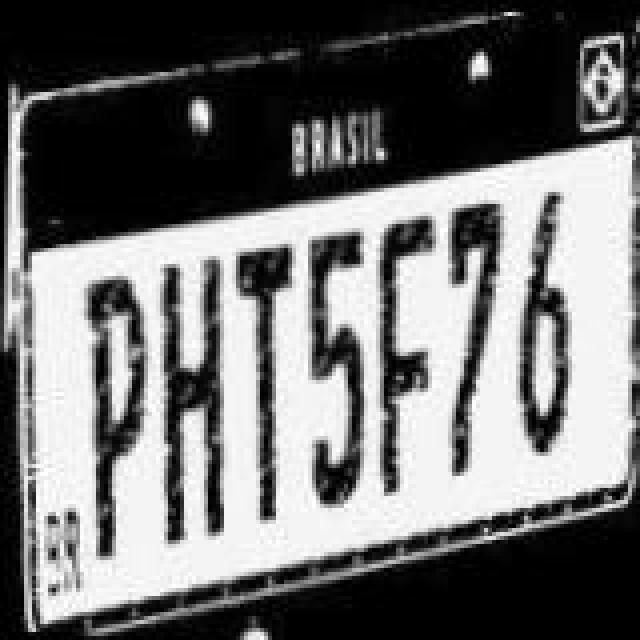5: (296, 230, 368, 510)
6: (506, 186, 578, 446)
7: (432, 196, 508, 476)
F: (364, 204, 440, 492)
H: (150, 256, 234, 540)
P: (72, 272, 148, 560)
T: (224, 242, 304, 518)
